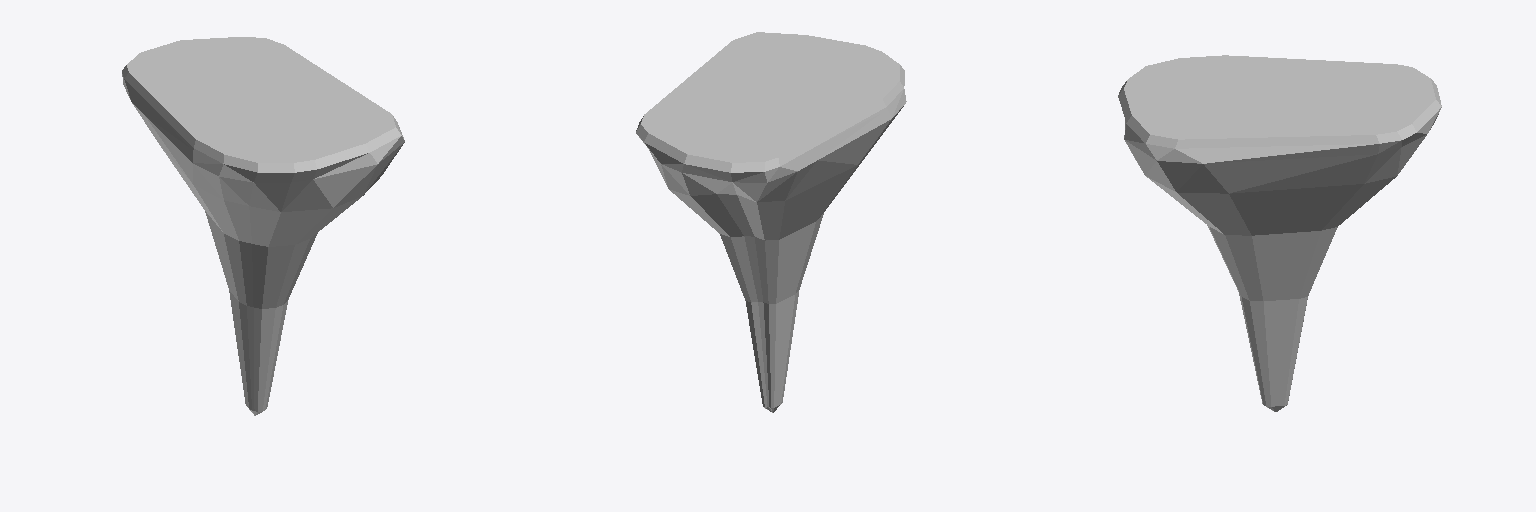
Rendered from MainIslandCollision.obj.
The picture shows the model from 3 angles: view 1: azimuth 30°, elevation 25°; view 2: azimuth 150°, elevation 25°; view 3: azimuth 270°, elevation 25°; orthographic projection.
Parts seen in each view (by area): view 1: Cube_Cube.001; view 2: Cube_Cube.001; view 3: Cube_Cube.001.
Part boxes in pixels (x1,y1,x2,y2): Cube_Cube.001: (122, 37, 404, 415); Cube_Cube.001: (636, 32, 906, 412); Cube_Cube.001: (1118, 55, 1441, 411).
Size of the model in its own units: 104 by 168 by 156.